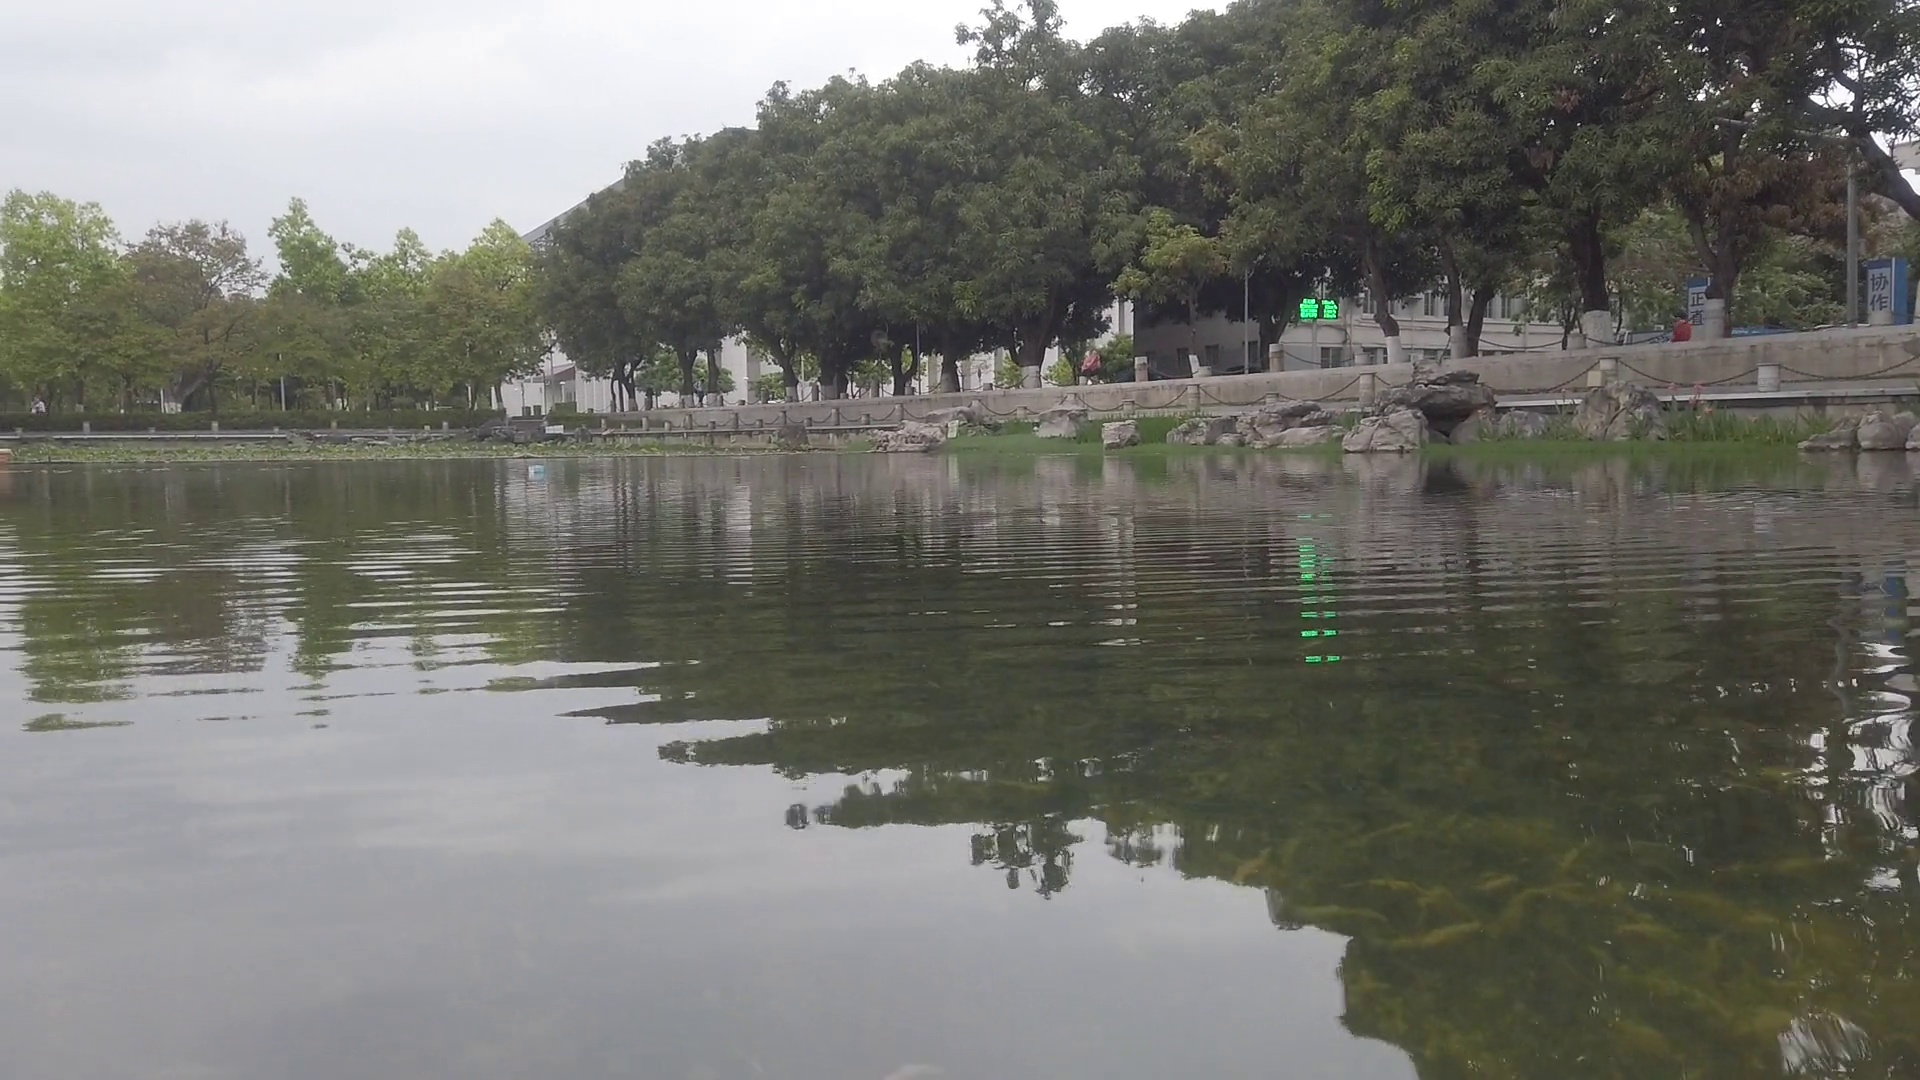carton: (527, 464, 545, 472)
